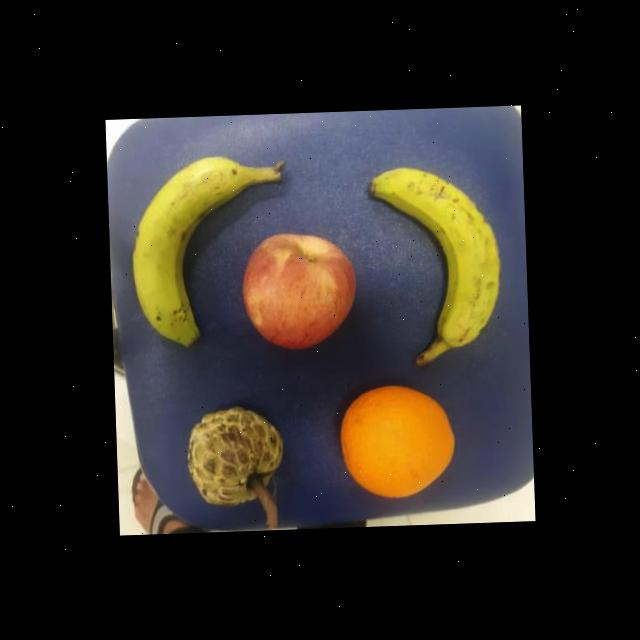Sakya fruit: (179, 398, 287, 509)
apple: (237, 228, 359, 352)
banana: (364, 160, 505, 352), (125, 155, 254, 346)
orange: (336, 381, 458, 504)
